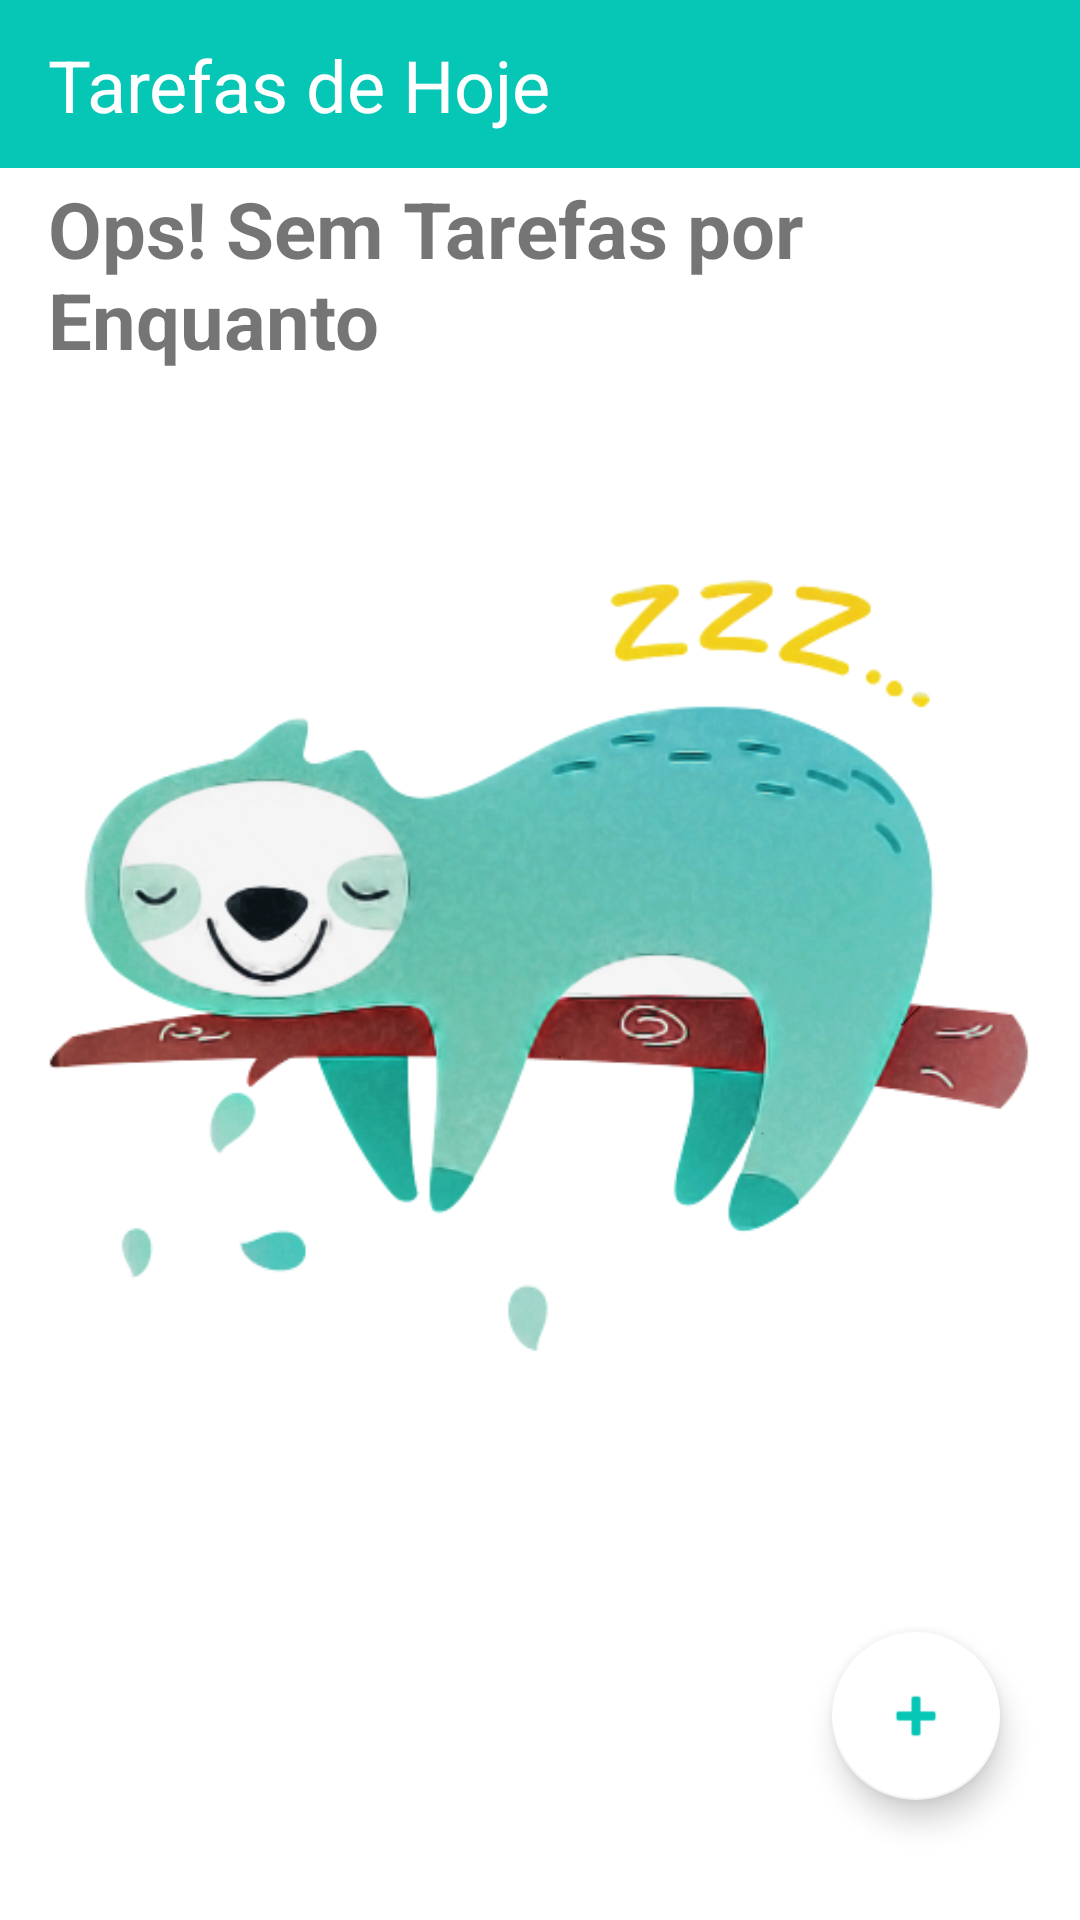

Locate icon controls on the screen. Image size 1080 × 1920, boxes as [x1, y1, x2, y2].
add: [837, 1696, 1000, 1800]
